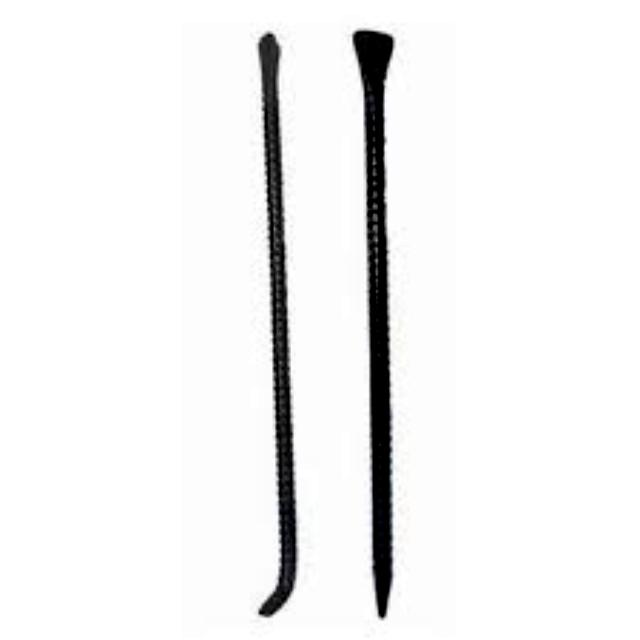crow bar: (341, 6, 422, 640), (238, 28, 320, 624)
